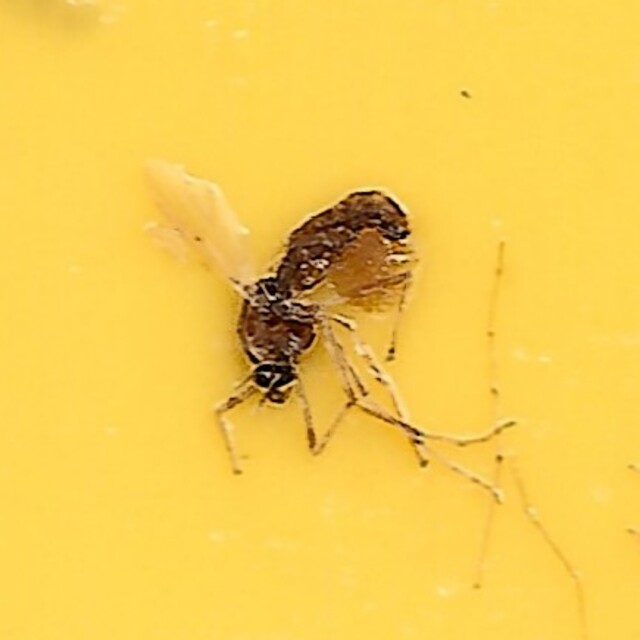Nematocera: (147, 152, 493, 488)
